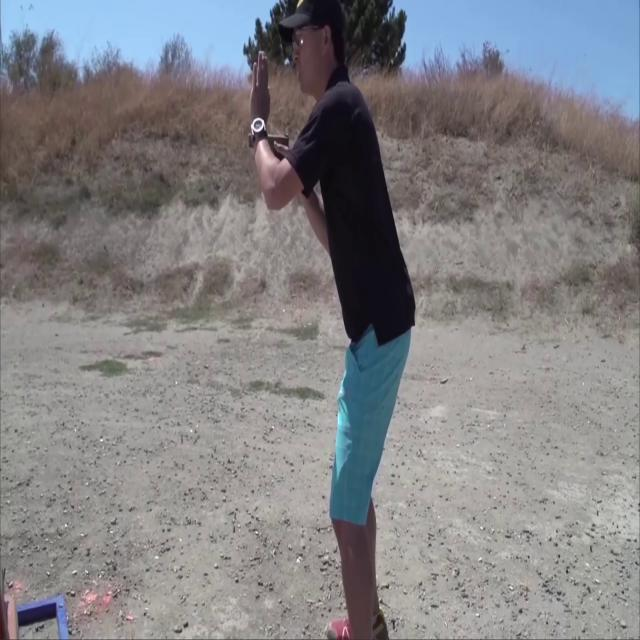gun: (248, 132, 290, 185)
